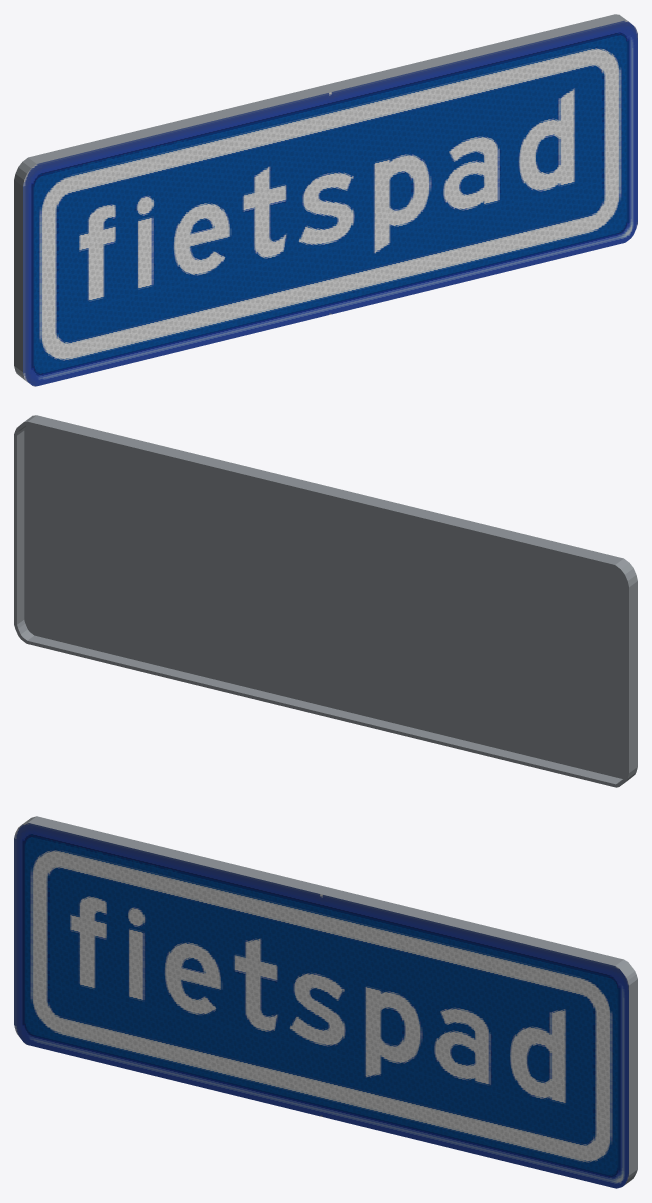
3 renders of one model, top to bottom at view 1: azimuth 30°, elevation 25°; view 2: azimuth 150°, elevation 25°; view 3: azimuth 330°, elevation 25°, orthographic.
Visible parts, largest first — view 1: cat_cd0b12293bb9c1de; view 2: cat_cd0b12293bb9c1de; view 3: cat_cd0b12293bb9c1de.
Boxes of the visible parts, bbox=[...] form: cat_cd0b12293bb9c1de: bbox=[14, 14, 637, 386]; cat_cd0b12293bb9c1de: bbox=[14, 415, 637, 787]; cat_cd0b12293bb9c1de: bbox=[14, 816, 637, 1188].
Size of the model in its own units: 0.6 by 0.015 by 0.2073.
Materials: 2 (1 with a texture image).
